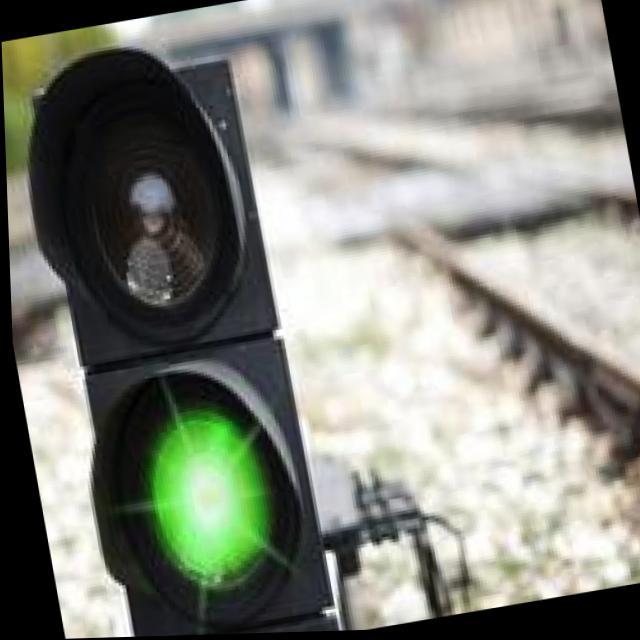green_light: (38, 352, 323, 639)
